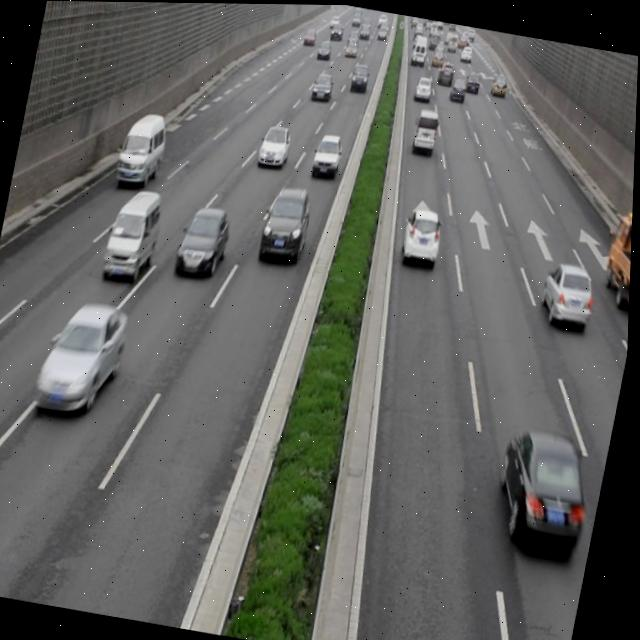bus: (601, 201, 634, 303)
car: (490, 425, 601, 558), (36, 298, 134, 417), (177, 204, 235, 275), (261, 182, 313, 261), (540, 261, 598, 327), (399, 204, 445, 269), (310, 130, 346, 180), (256, 124, 294, 171), (311, 71, 334, 100)
truck: (105, 188, 165, 282), (115, 111, 170, 186), (410, 106, 442, 152)
